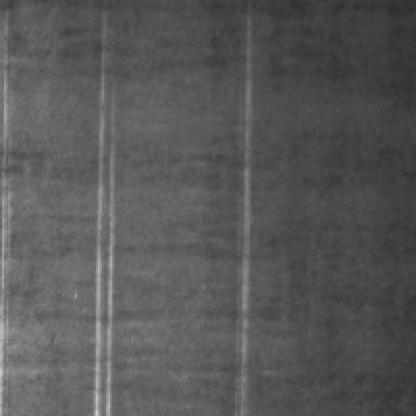scratches: (233, 12, 262, 416), (94, 64, 122, 416)
